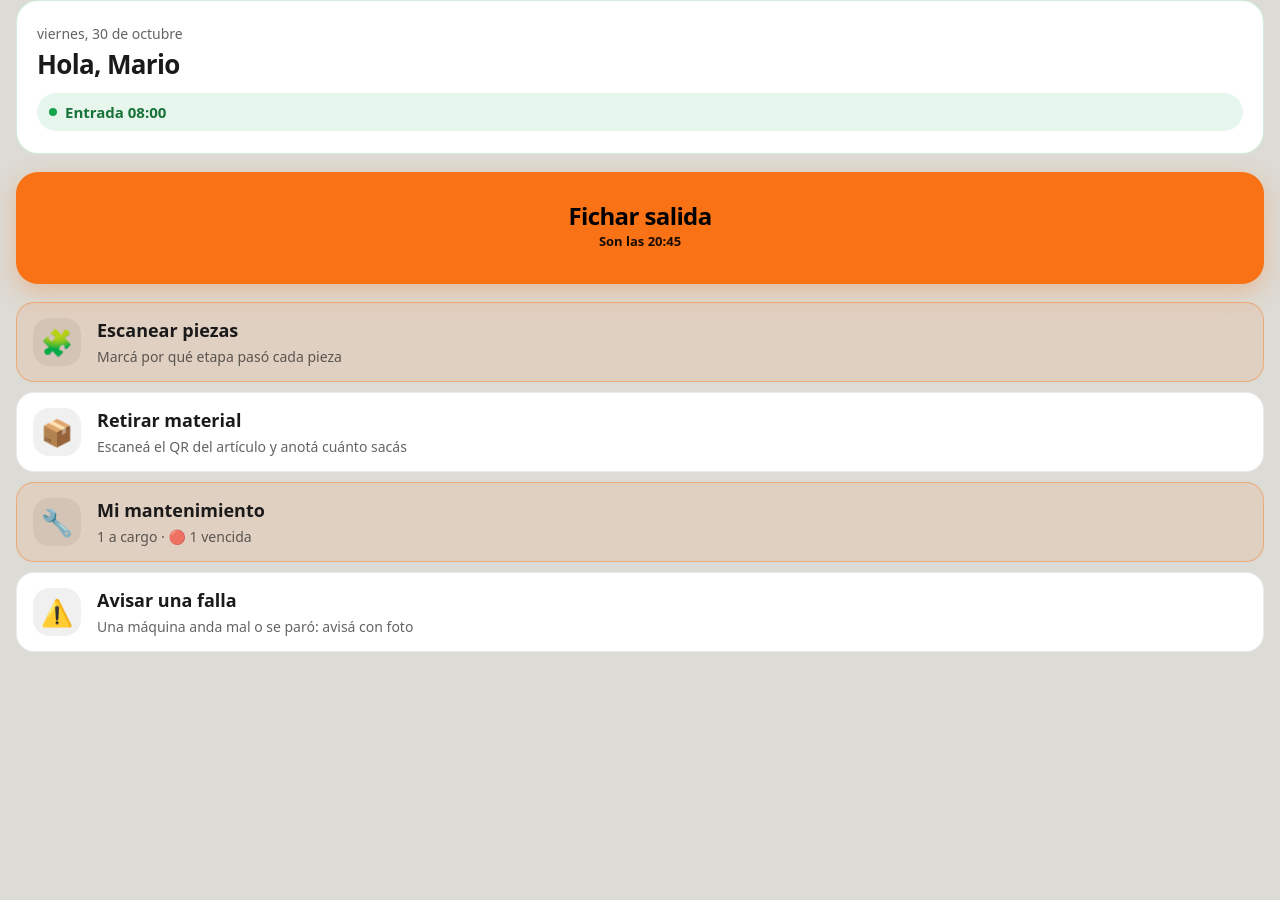
Test: inicio del operario — 🔧 Mi mantenimiento con lo suyo; el chofer ya no ve el checklist del vehículo
Step 1. Click the button "🔧 Mi mantenimiento 1 a cargo · 🔴 1 vencida" → (57, 522), box [16,482,1264,562]
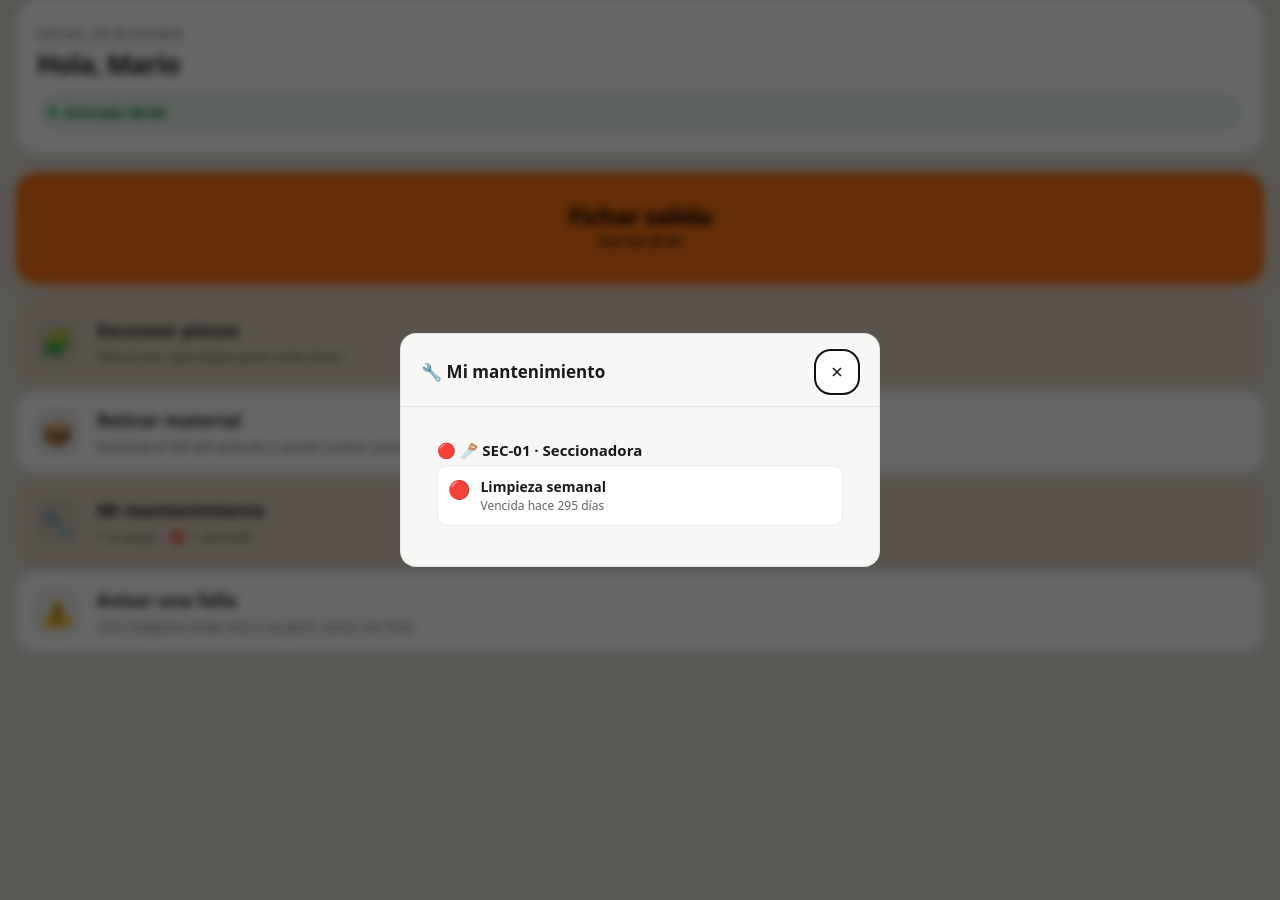
Step 2. Click the button with aria-label "SEC-01: Limpieza semanal" → (543, 487), box [437,465,843,526]
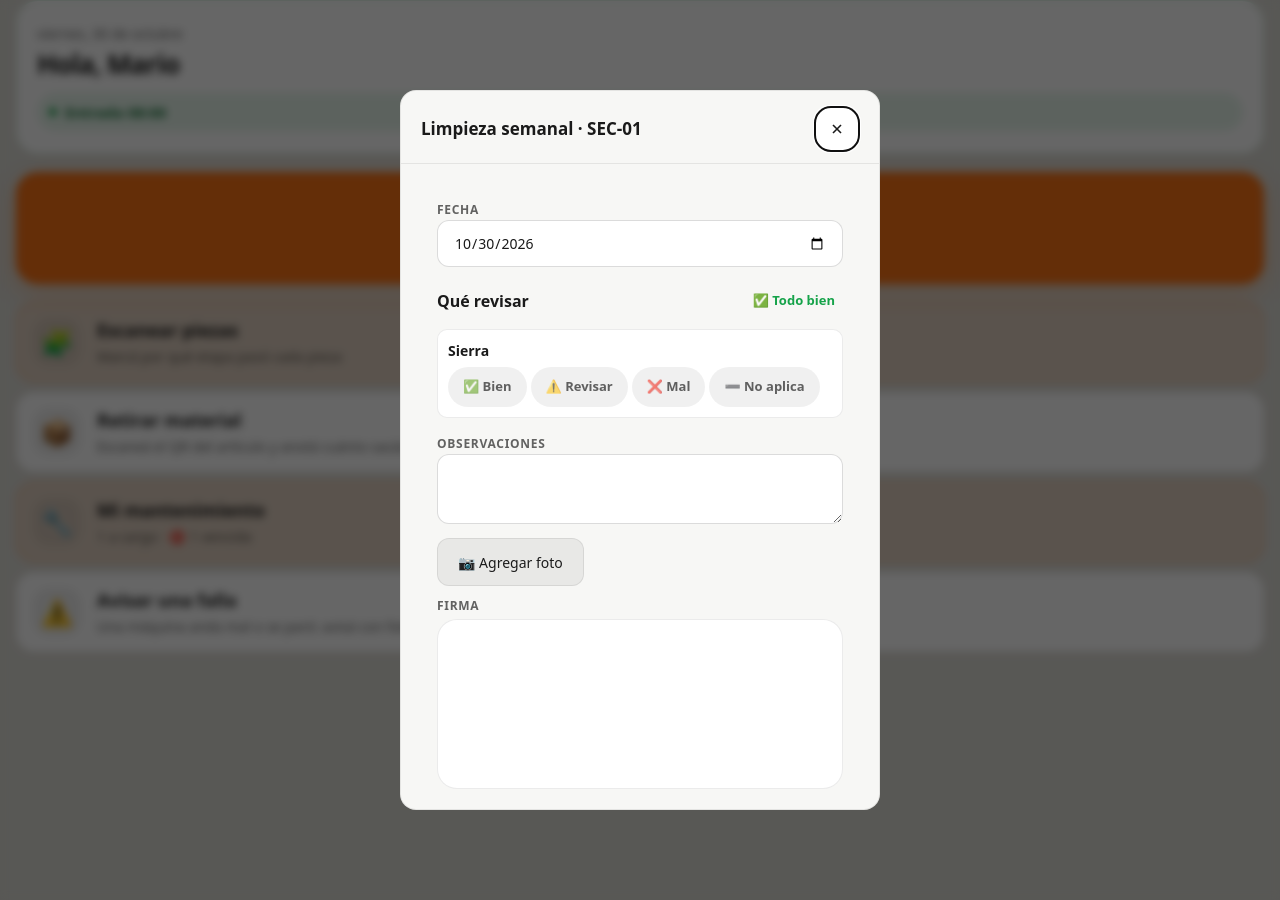
Expected: the heading "Qué revisar" is shown, [437,290,529,312]
